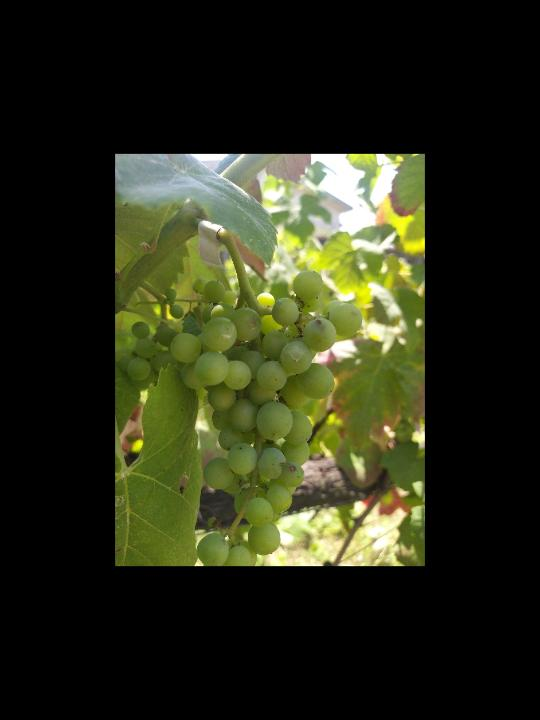grape: (167, 268, 363, 564)
